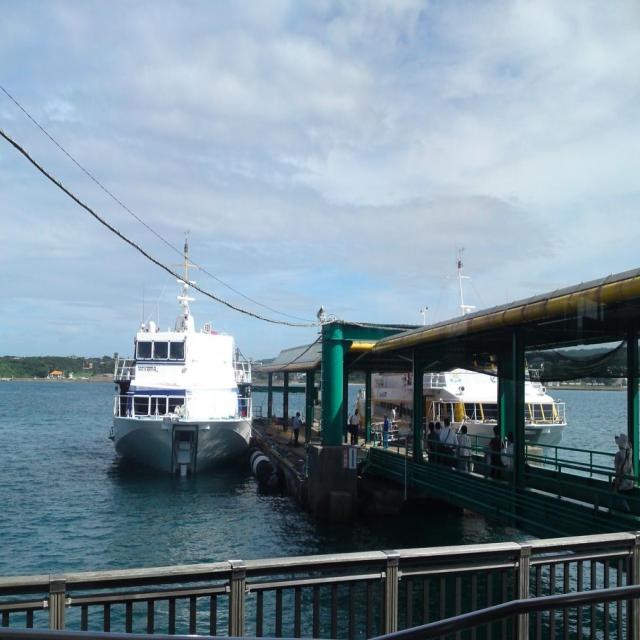cargoship: (361, 278, 575, 452), (110, 244, 252, 474)
